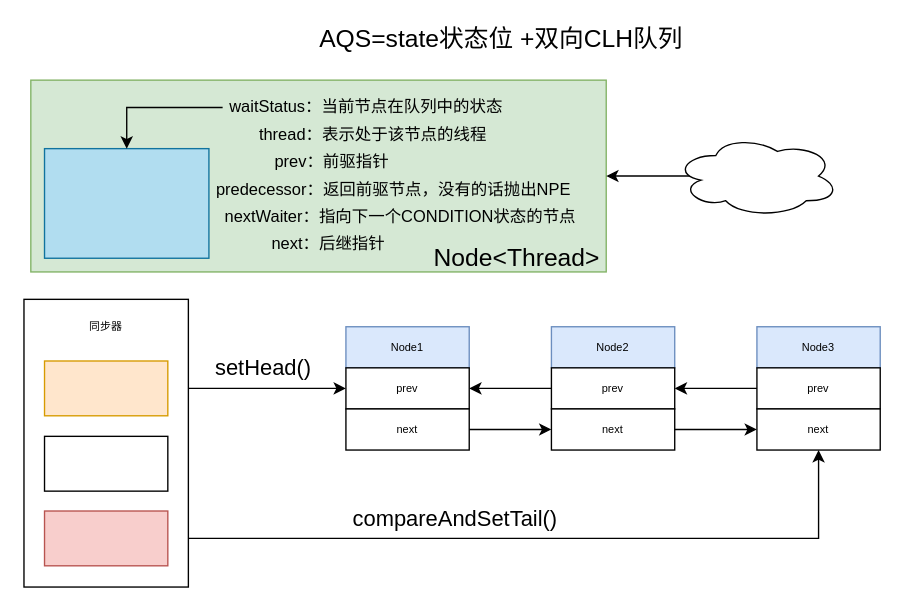
This 904x611 diagram has some shape labels left out. The centre of each missing label's shape, as x and y in pixels:
"0：默认值 1：CANCELLED -2: CONDITION -3: PROPAGATE -1: SIGNAL" belongs at pixel 126 202.
"head" belongs at pixel 105 388.
"Node节点" belongs at pixel 756 175.
"state状态位" belongs at pixel 105 463.
"tail" belongs at pixel 105 538.
